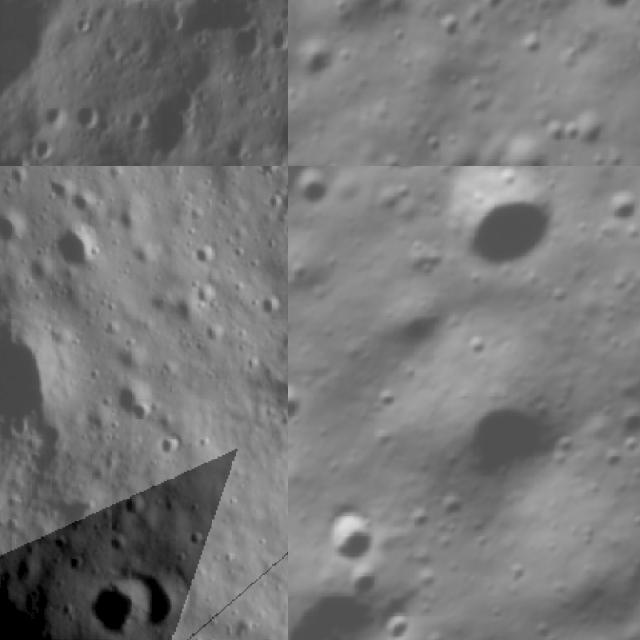crater: (417, 350, 586, 522), (418, 166, 585, 295), (357, 272, 460, 376), (307, 492, 396, 580), (288, 19, 353, 94), (86, 580, 146, 640), (288, 166, 350, 223), (591, 175, 640, 236), (141, 571, 188, 634), (288, 368, 321, 437), (605, 388, 640, 452), (367, 601, 422, 640), (447, 619, 546, 640), (360, 166, 440, 188), (579, 0, 640, 25), (0, 206, 31, 246), (72, 237, 108, 268), (0, 141, 39, 166), (110, 522, 134, 559), (125, 489, 149, 524), (258, 290, 279, 328), (44, 170, 70, 197), (159, 430, 185, 454), (79, 194, 110, 214), (70, 543, 87, 570), (193, 246, 213, 266), (203, 285, 220, 308), (201, 323, 223, 338)
